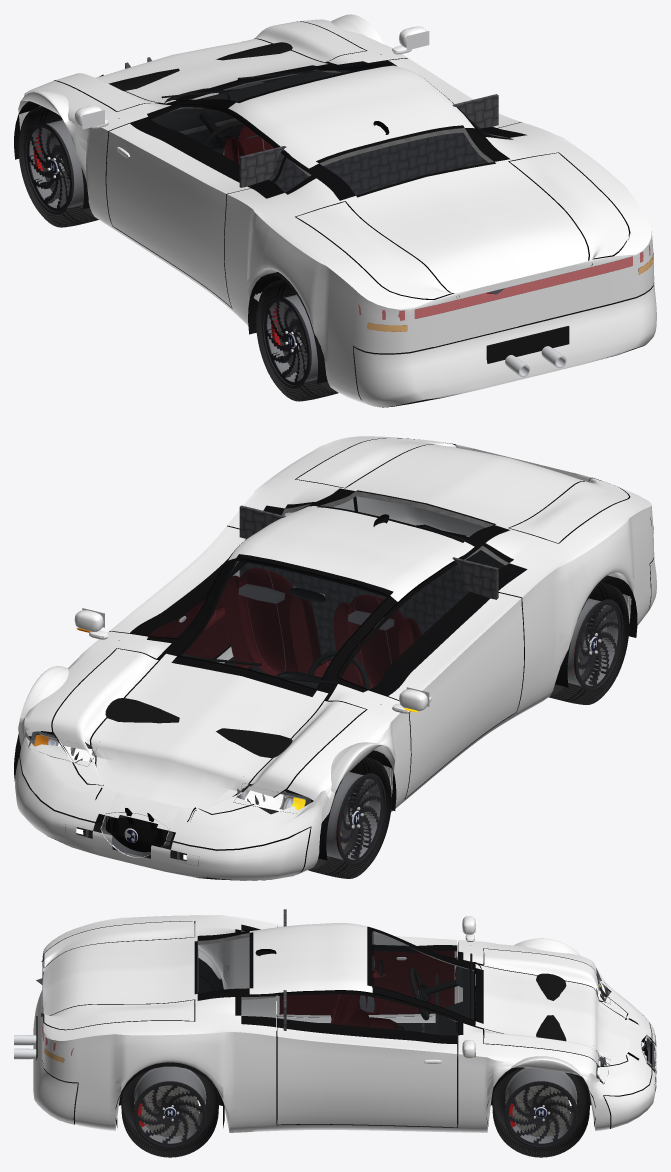
The model's file is hypercar.glb.
The picture shows the model from 3 angles, top to bottom: view 1: azimuth 30°, elevation 25°; view 2: azimuth 150°, elevation 25°; view 3: azimuth 270°, elevation 25°; orthographic projection. The views are drawn at different scales.
Parts seen in each view (by area): view 1: chassis, door_lf_ok, bump_rear_ok, interior, boot_ok, wheel_lf, wheel_lb, bonnet_ok, windscreen_ok, door_rf_ok, steering_wheel; view 2: chassis, door_lf_ok, interior, windscreen_ok, bump_front_ok, bonnet_ok, door_rf_ok, boot_ok, wheel_lf, wheel_lb, bump_rear_ok; view 3: chassis, door_rf_ok, wheel_rb, wheel_rf, door_lf_ok, windscreen_ok, boot_ok, bonnet_ok, interior, bump_rear_ok, bump_front_ok, steering_wheel.
Part boxes in pixels (x1=…): chassis: x1=14, y1=14, x2=654, y2=407; door_lf_ok: x1=74, y1=104, x2=287, y2=307; bump_rear_ok: x1=353, y1=282, x2=656, y2=407; interior: x1=118, y1=54, x2=507, y2=195; boot_ok: x1=296, y1=153, x2=628, y2=299; wheel_lf: x1=18, y1=106, x2=98, y2=227; wheel_lb: x1=256, y1=279, x2=338, y2=401; bonnet_ok: x1=54, y1=21, x2=365, y2=111; windscreen_ok: x1=178, y1=64, x2=388, y2=102; door_rf_ok: x1=337, y1=26, x2=521, y2=130; steering_wheel: x1=199, y1=112, x2=243, y2=155; chassis: x1=14, y1=436, x2=654, y2=880; door_lf_ok: x1=337, y1=558, x2=523, y2=798; interior: x1=118, y1=491, x2=508, y2=704; windscreen_ok: x1=178, y1=558, x2=388, y2=690; bump_front_ok: x1=15, y1=756, x2=310, y2=880; bonnet_ok: x1=52, y1=648, x2=366, y2=819; door_rf_ok: x1=74, y1=526, x2=246, y2=658; boot_ok: x1=296, y1=438, x2=628, y2=543; wheel_lf: x1=308, y1=756, x2=391, y2=878; wheel_lb: x1=549, y1=582, x2=629, y2=704; bump_rear_ok: x1=355, y1=496, x2=656, y2=612; chassis: x1=36, y1=915, x2=651, y2=1132; door_rf_ok: x1=277, y1=991, x2=475, y2=1127; wheel_rb: x1=121, y1=1066, x2=218, y2=1157; wheel_rf: x1=492, y1=1067, x2=589, y2=1157; door_lf_ok: x1=277, y1=916, x2=475, y2=1017; windscreen_ok: x1=372, y1=928, x2=474, y2=1020; boot_ok: x1=42, y1=921, x2=194, y2=1030; bonnet_ok: x1=483, y1=948, x2=638, y2=1067; interior: x1=194, y1=909, x2=482, y2=1103; bump_rear_ok: x1=14, y1=990, x2=77, y2=1124; bump_front_ok: x1=603, y1=990, x2=656, y2=1128; steering_wheel: x1=409, y1=967, x2=457, y2=1020.
Bounding box in the file's own units: 2.31 × 1.21 × 4.7.
Materials: 51 (20 with a texture image).
